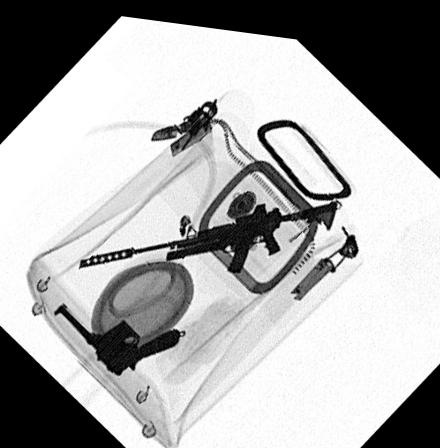Gun: (76, 190, 337, 269)
